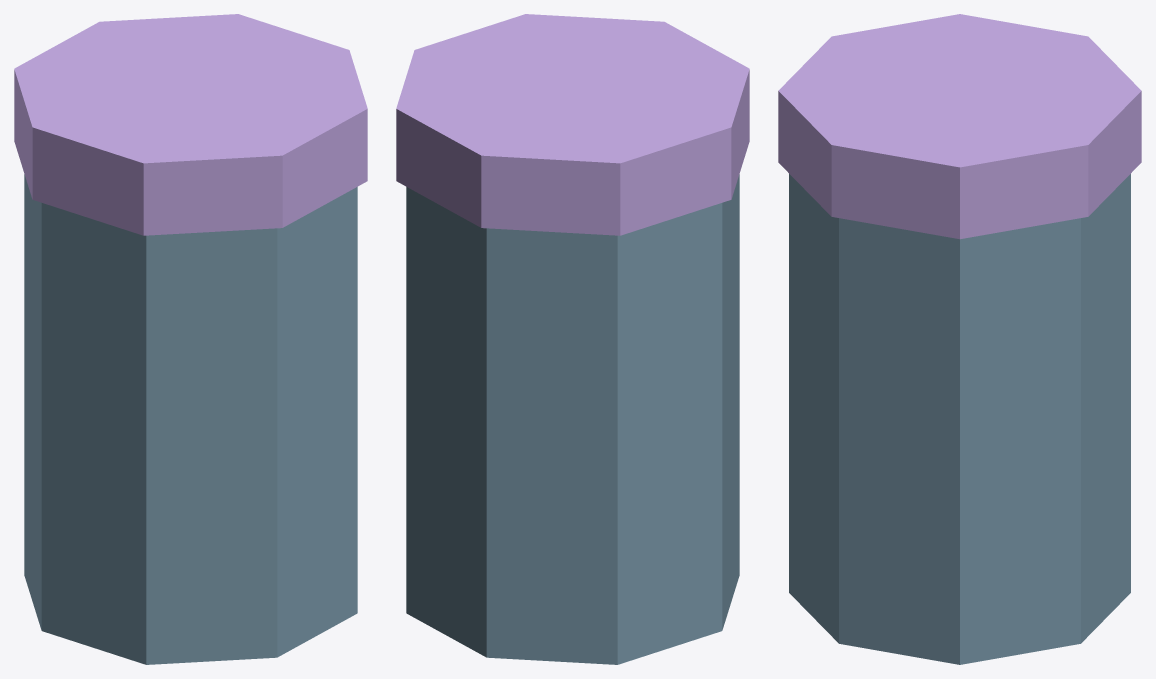
The model's file is Bottle_14.fbx.
3 views of the same model, side by side, from view 1: azimuth 30°, elevation 25°; view 2: azimuth 150°, elevation 25°; view 3: azimuth 270°, elevation 25° (orthographic).
Visible parts, largest first — view 1: Bottle_14; view 2: Bottle_14; view 3: Bottle_14.
Part boxes in pixels (<box>): Bottle_14: <box>14,14,367,664</box>; Bottle_14: <box>396,14,749,664</box>; Bottle_14: <box>778,14,1141,664</box>.
Size of the model in its own units: 11.13 by 11.13 by 16.97.
